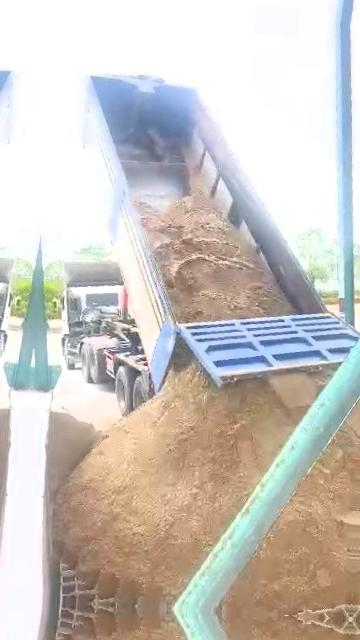sand: (56, 360, 327, 607), (225, 406, 360, 615), (138, 195, 291, 321), (47, 408, 100, 499)
